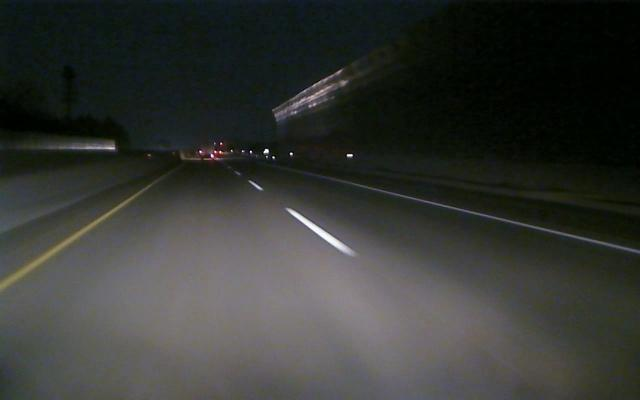lane: (332, 178, 638, 256), (2, 184, 152, 290), (249, 181, 361, 257)
